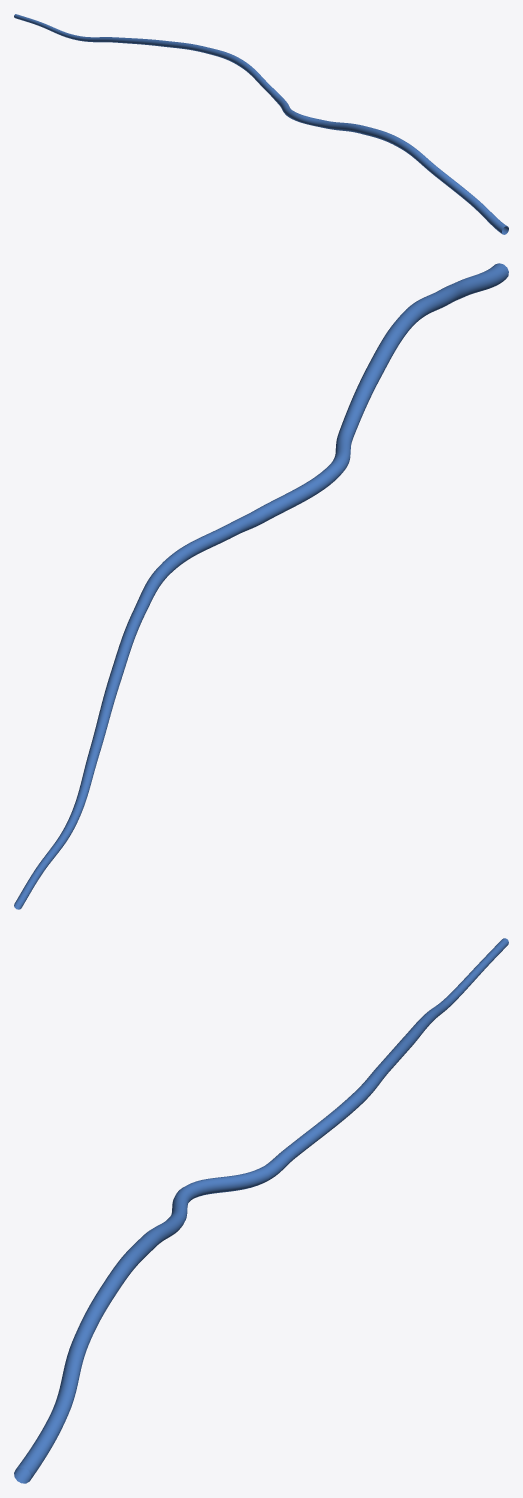
3 renders of one model, top to bottom at view 1: azimuth 30°, elevation 25°; view 2: azimuth 150°, elevation 25°; view 3: azimuth 330°, elevation 25°, orthographic. The views are drawn at different scales.
Parts seen in each view (by area): view 1: 右侧贵要静脉; view 2: 右侧贵要静脉; view 3: 右侧贵要静脉.
Boxes of the visible parts, left/top/right/bottom form: 右侧贵要静脉: left=14, top=14, right=508, bottom=234; 右侧贵要静脉: left=14, top=263, right=508, bottom=909; 右侧贵要静脉: left=14, top=938, right=508, bottom=1483.
Bounding box in the file's own units: 0.1365 × 0.0718 × 0.6878.
